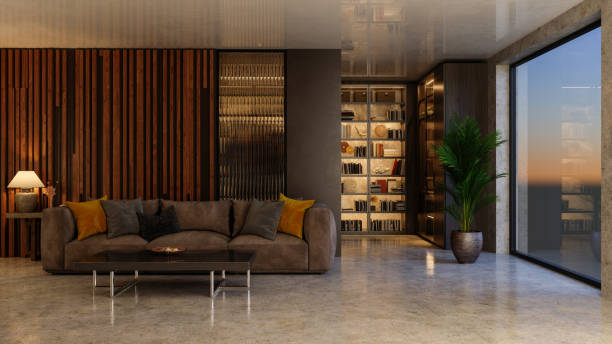large plant: (435, 113, 508, 264)
sofa: (39, 192, 336, 276)
table: (67, 248, 256, 316)
table lamp: (6, 168, 45, 213)
